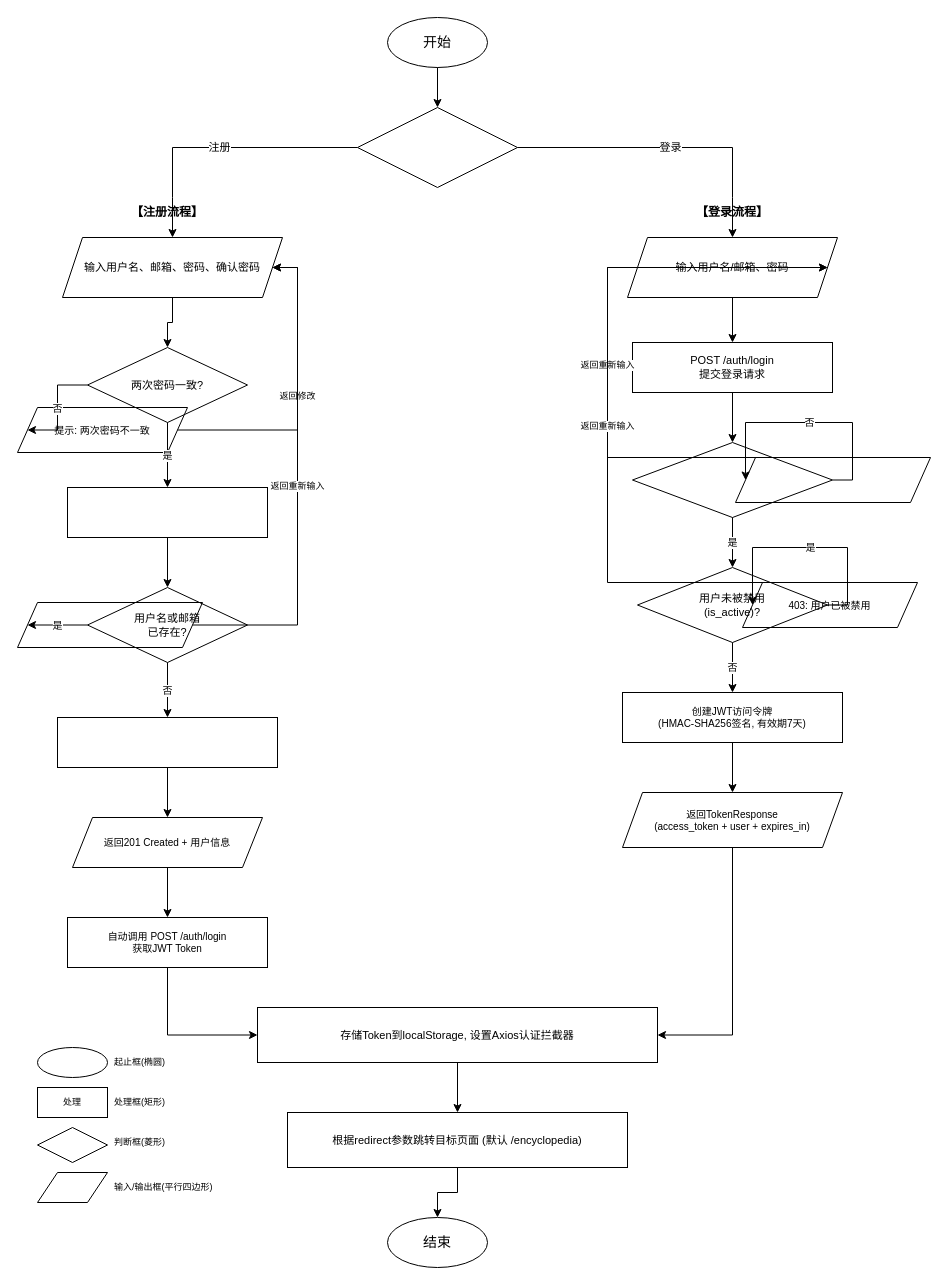
Image size: 948x1285. Some labels were removed from this diagram. Each missing label, with the centre of its shape:
"401: 用户名、邮箱或密码错误" belongs at point (832, 479).
"409: 用户名或邮箱已存在" belongs at point (109, 625).
"bcrypt哈希密码, 创建用户记录 (is_active=True, role=user)" belongs at point (167, 742).
"POST /users/register 提交注册请求" belongs at point (167, 512).
"判断" belongs at point (72, 1144).
"开始/结束" belongs at point (72, 1062).
"用户存在且 密码正确?" belongs at point (732, 480).
"输入/输出" belongs at point (72, 1187).
"选择模式?" belongs at point (437, 147).
